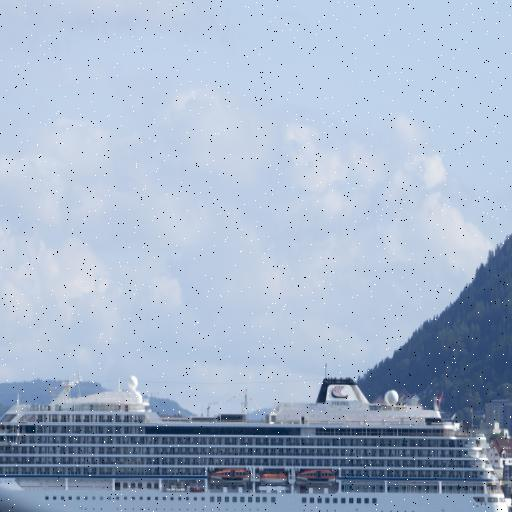cruises: (1, 364, 512, 512)
